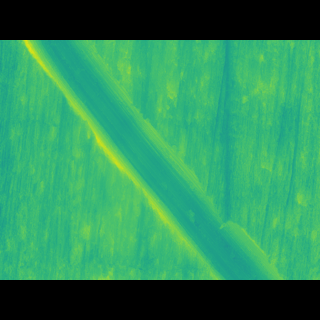Loch: (22, 68, 285, 250)
